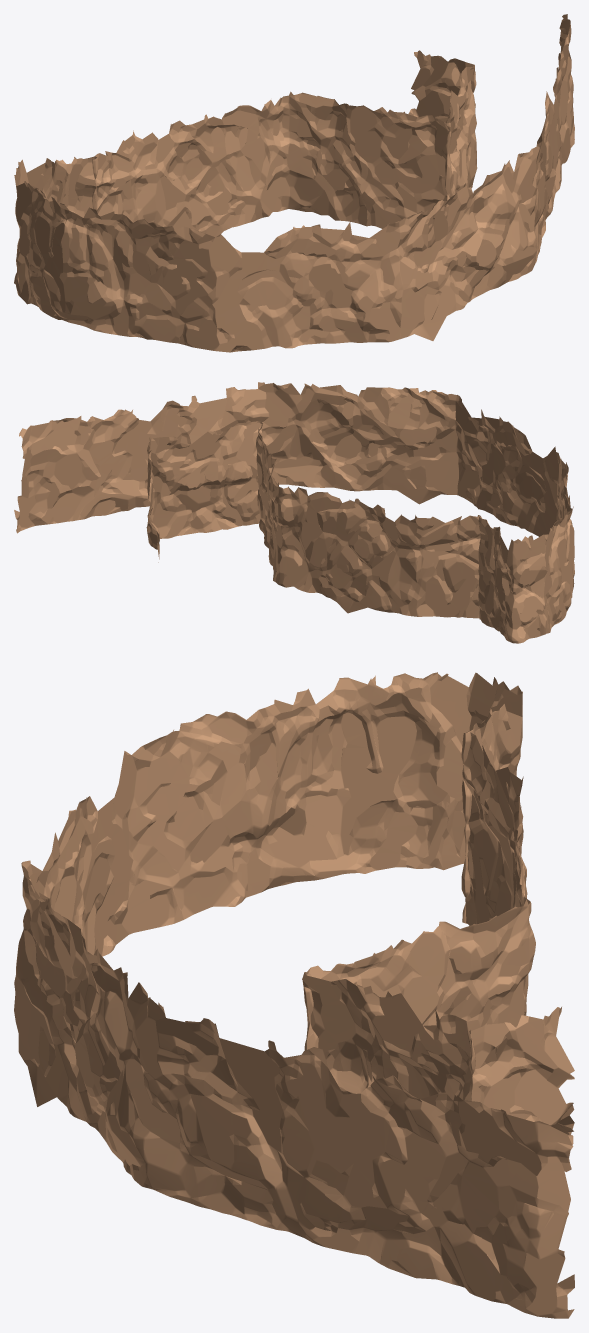
Rendered from SandstoneBig_Mesh_2_002LODs.fbx.
3 renders of one model, top to bottom at view 1: azimuth 30°, elevation 25°; view 2: azimuth 150°, elevation 25°; view 3: azimuth 270°, elevation 25°, orthographic. The views are drawn at different scales.
Visible parts, largest first — view 1: Mesh_2.002_LOD0; view 2: Mesh_2.002_LOD0; view 3: Mesh_2.002_LOD0.
Boxes of the visible parts, <box> form: Mesh_2.002_LOD0: <box>14,14,574,352</box>; Mesh_2.002_LOD0: <box>14,382,574,643</box>; Mesh_2.002_LOD0: <box>14,672,574,1318</box>.
Size of what is drawn, in the model's own units: 21422 by 4751 by 11132.
